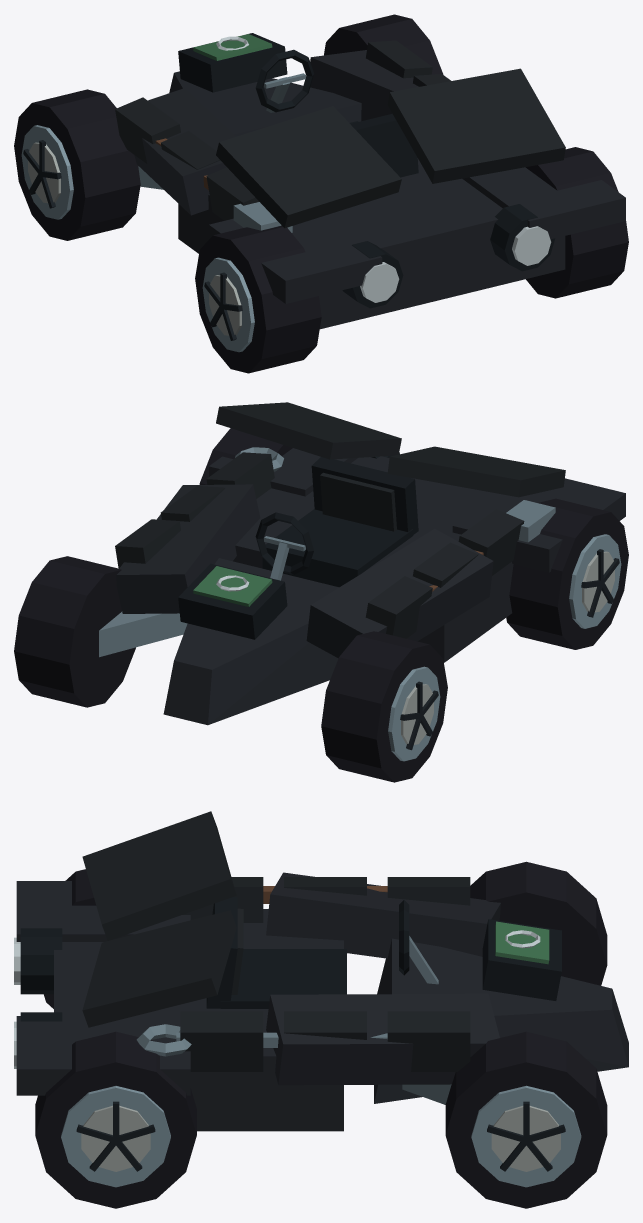
Rendered from kart.glb.
The picture shows the model from 3 angles, top to bottom: view 1: azimuth 30°, elevation 25°; view 2: azimuth 150°, elevation 25°; view 3: azimuth 270°, elevation 25°; orthographic projection. The views are drawn at different scales.
Parts seen in each view (by area): view 1: identity-tumbler-tumbler-broken-armor-and-front-forks, wheel-front-left, wheel-rear-left, identity-tumbler-motif-armor, wheel-rear-right, identity-tumbler-motif-scanner, identity-tumbler-driver-cockpit, wheel-front-right, identity-tumbler-motif-tools; view 2: identity-tumbler-tumbler-broken-armor-and-front-forks, wheel-front-left, identity-tumbler-driver-cockpit, wheel-front-right, wheel-rear-left, identity-tumbler-motif-armor, identity-tumbler-motif-scanner, identity-tumbler-motif-tools, wheel-rear-right; view 3: identity-tumbler-tumbler-broken-armor-and-front-forks, wheel-front-right, wheel-rear-right, identity-tumbler-motif-armor, wheel-front-left, identity-tumbler-driver-cockpit, identity-tumbler-motif-scanner, identity-tumbler-motif-tools, wheel-rear-left.
Part boxes in pixels (box(x1,y1,x2,y2)): identity-tumbler-tumbler-broken-armor-and-front-forks: box(134, 50, 625, 329); wheel-front-left: box(14, 89, 140, 240); wheel-rear-left: box(195, 225, 321, 373); identity-tumbler-motif-armor: box(115, 40, 450, 220); wheel-rear-right: box(526, 147, 628, 298); identity-tumbler-motif-scanner: box(178, 33, 287, 92); identity-tumbler-driver-cockpit: box(255, 49, 418, 177); wheel-front-right: box(324, 14, 443, 74); identity-tumbler-motif-tools: box(155, 138, 292, 232); identity-tumbler-tumbler-broken-armor-and-front-forks: box(99, 402, 625, 725); wheel-front-left: box(321, 631, 447, 782); identity-tumbler-driver-cockpit: box(255, 457, 418, 587); wheel-front-right: box(14, 556, 135, 707); wheel-rear-left: box(506, 498, 628, 649); identity-tumbler-motif-armor: box(115, 452, 524, 638); identity-tumbler-motif-scanner: box(178, 563, 287, 639); identity-tumbler-motif-tools: box(235, 447, 555, 591); wheel-rear-right: box(199, 428, 292, 484); identity-tumbler-tumbler-broken-armor-and-front-forks: box(14, 811, 628, 1131); wheel-front-right: box(445, 1031, 607, 1208); wheel-rear-right: box(35, 1031, 196, 1208); identity-tumbler-motif-armor: box(180, 877, 470, 1071); wheel-front-left: box(470, 861, 607, 985); identity-tumbler-driver-cockpit: box(206, 897, 438, 1008); identity-tumbler-motif-scanner: box(482, 919, 561, 1000); identity-tumbler-motif-tools: box(136, 886, 387, 1056); wheel-rear-left: box(44, 869, 96, 1008).
Size of the model in its own units: 2.4 by 1.14 by 2.97.
